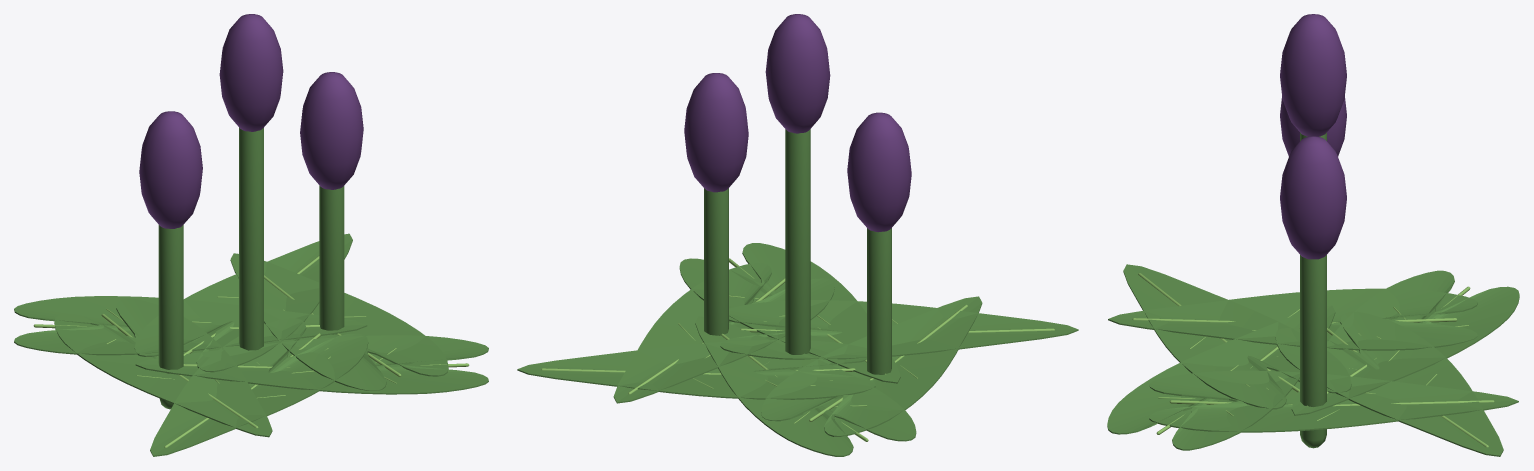
The model's file is lotus_budding.glb.
3 views of the same model, side by side, from view 1: azimuth 30°, elevation 25°; view 2: azimuth 150°, elevation 25°; view 3: azimuth 270°, elevation 25° (orthographic). The views are drawn at different scales.
Parts seen in each view (by area): view 1: Broad_shaped_leaf.003, Broad_shaped_leaf.001, Broad_shaped_leaf.002, Broad_shaped_leaf, Broad_shaped_leaf.004, Closed_bud.002, Closed_bud.001, Closed_bud, Stem.001, Broad_shaped_leaf.005, Stem, Stem.002; view 2: Broad_shaped_leaf.003, Broad_shaped_leaf.005, Broad_shaped_leaf.004, Broad_shaped_leaf, Broad_shaped_leaf.002, Closed_bud, Closed_bud.002, Closed_bud.001, Stem.001, Broad_shaped_leaf.001, Stem.002, Stem; view 3: Broad_shaped_leaf, Broad_shaped_leaf.003, Broad_shaped_leaf.005, Broad_shaped_leaf.002, Broad_shaped_leaf.001, Broad_shaped_leaf.004, Closed_bud.002, Closed_bud.001, Stem.002, Closed_bud, Leaf_midvein, Leaf_midvein.003.
Part boxes in pixels (bbox=[...]): Broad_shaped_leaf.003: bbox=[54, 298, 272, 437]; Broad_shaped_leaf.001: bbox=[135, 335, 488, 394]; Broad_shaped_leaf.002: bbox=[150, 318, 368, 456]; Broad_shaped_leaf: bbox=[230, 253, 448, 390]; Broad_shaped_leaf.004: bbox=[14, 296, 367, 355]; Closed_bud.002: bbox=[300, 72, 363, 189]; Closed_bud.001: bbox=[219, 14, 283, 131]; Closed_bud: bbox=[139, 111, 202, 228]; Stem.001: bbox=[239, 127, 263, 350]; Broad_shaped_leaf.005: bbox=[134, 233, 352, 372]; Stem: bbox=[158, 225, 183, 409]; Stem.002: bbox=[319, 185, 344, 334]; Broad_shaped_leaf.003: bbox=[761, 296, 982, 436]; Broad_shaped_leaf.005: bbox=[517, 340, 875, 399]; Broad_shaped_leaf.004: bbox=[695, 316, 916, 456]; Broad_shaped_leaf: bbox=[613, 263, 834, 403]; Broad_shaped_leaf.002: bbox=[720, 300, 1078, 359]; Closed_bud: bbox=[847, 112, 911, 232]; Closed_bud.002: bbox=[684, 73, 748, 192]; Closed_bud.001: bbox=[765, 14, 830, 133]; Stem.001: bbox=[785, 129, 810, 354]; Broad_shaped_leaf.001: bbox=[679, 243, 900, 383]; Stem.002: bbox=[704, 188, 728, 335]; Stem: bbox=[867, 228, 891, 374]; Broad_shaped_leaf: bbox=[1149, 370, 1518, 432]; Broad_shaped_leaf.003: bbox=[1108, 288, 1477, 350]; Broad_shaped_leaf.005: bbox=[1275, 311, 1503, 456]; Broad_shaped_leaf.002: bbox=[1123, 264, 1351, 409]; Broad_shaped_leaf.001: bbox=[1107, 305, 1335, 450]; Broad_shaped_leaf.004: bbox=[1291, 270, 1519, 415]; Closed_bud.002: bbox=[1280, 136, 1346, 259]; Closed_bud.001: bbox=[1280, 14, 1346, 136]; Stem.002: bbox=[1300, 255, 1326, 448]; Closed_bud: bbox=[1280, 96, 1346, 156]; Leaf_midvein: bbox=[1169, 400, 1494, 406]; Leaf_midvein.003: bbox=[1132, 318, 1457, 323].
Size of the model in its own units: 0.4851 by 0.4624 by 0.442.
